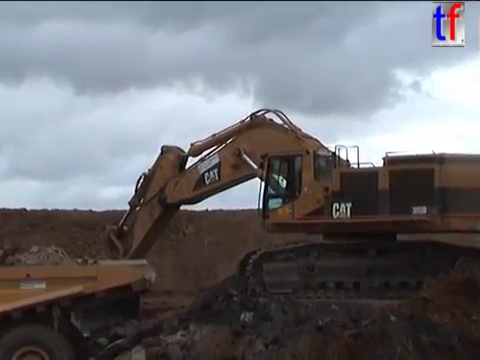excavator: (48, 104, 480, 341)
truck: (1, 253, 158, 360)
